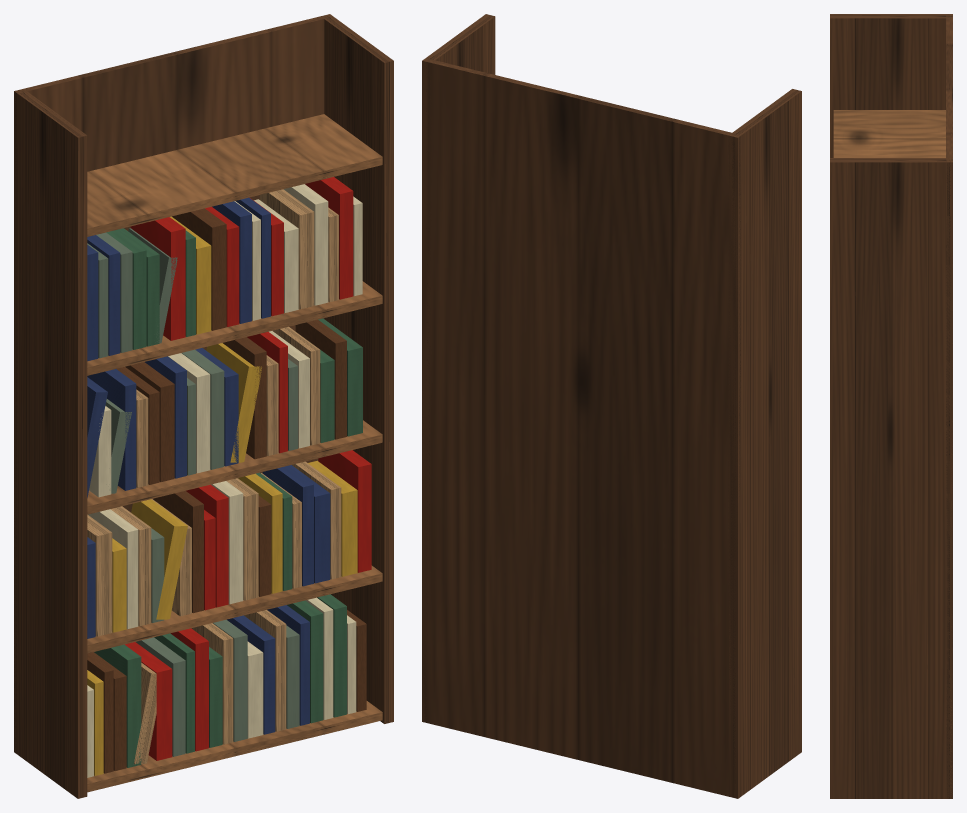
Rendered from OB_Regal_Ksiazki.fbx.
3 views of the same model, side by side, from view 1: azimuth 30°, elevation 25°; view 2: azimuth 150°, elevation 25°; view 3: azimuth 270°, elevation 25° (orthographic). The views are drawn at different scales.
Parts seen in each view (by area): view 1: Regal; view 2: Regal; view 3: Regal.
Part boxes in pixels (bbox=[...]): Regal: bbox=[14, 14, 393, 798]; Regal: bbox=[422, 14, 801, 798]; Regal: bbox=[830, 14, 952, 798].
Bounding box in the file's own units: 1 × 2 × 0.35.
